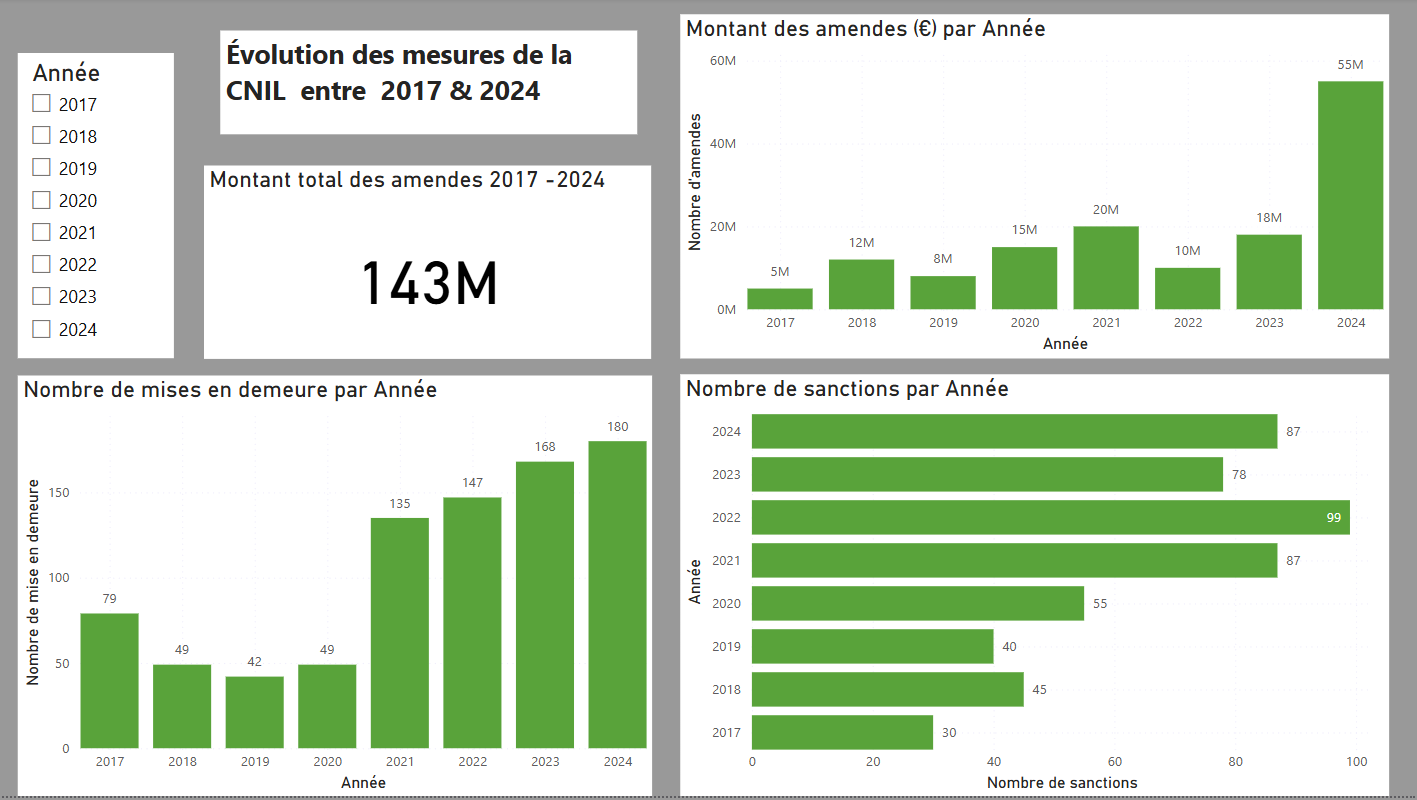

The dashboard page shown, as its layout file describes it:
{"tool":"powerbi","page":{"name":"Page 1","canvas":[1280,720],"ordinal":0},"visuals":[{"type":"barChart","title":"Nombre de sanctions par Année","fields":{"Category":["Mise en demeure depuis 2017-2024.Année"],"Y":["Sum(Mise en demeure depuis 2017-2024.Nombre de sanctions)"]},"box":[614.8,338.9,639.5,381.5],"z":0},{"type":"card","title":"Montant total des amendes 2017 -2024","fields":{"Values":["Sum(Mise en demeure depuis 2017-2024.Montant amendes (€))"]},"box":[185.2,150.9,403.4,174.3],"z":1000},{"type":"columnChart","title":"Nombre de mises en demeure par Année","fields":{"Y":["Sum(Mise en demeure depuis 2017-2024.Mises en demeure)"],"Category":["Mise en demeure depuis 2017-2024.Année"]},"box":[16.5,340.3,572.2,380.1],"z":2000},{"type":"lineClusteredColumnComboChart","title":"Montant des amendes (€) par Année","fields":{"Category":["Mise en demeure depuis 2017-2024.Année"],"Y":["Sum(Mise en demeure depuis 2017-2024.Montant amendes (€))"]},"box":[621.9,15.5,639.1,309.6],"z":3000},{"type":"slicer","fields":{"Values":["Mise en demeure depuis 2017-2024.Année"]},"box":[16.9,49.6,140.9,275],"z":4000},{"type":"textbox","box":[199,28.8,376,93.3],"z":5000}]}

Visuals, with their boxes in screenshot pixels (x1, y1, x2, y2), scaled from the page's 1280x720 canvas onto the 1417x800 screenshot:
"Nombre de sanctions par Année" barChart: 681:377:1389:799
"Montant total des amendes 2017 -2024" card: 205:168:652:361
"Nombre de mises en demeure par Année" columnChart: 18:378:652:799
"Montant des amendes (€) par Année" lineClusteredColumnComboChart: 688:17:1396:361
slicer - Mise en demeure depuis 2017-2024.Année: 19:55:175:361
textbox: 220:32:637:136
